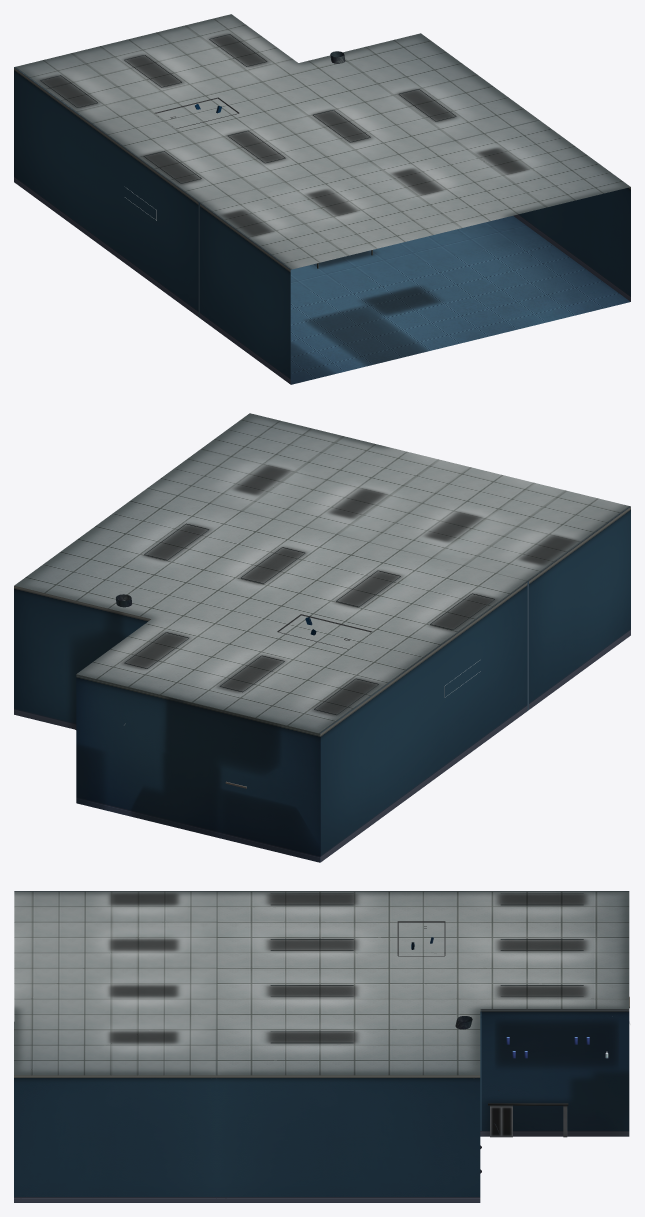
The model's file is WuZhengDiaoChaKe_01_new.FBX.
3 renders of one model, top to bottom at view 1: azimuth 30°, elevation 25°; view 2: azimuth 150°, elevation 25°; view 3: azimuth 270°, elevation 25°, orthographic. The views are drawn at different scales.
Parts seen in each view (by area): view 1: WuZhengDiaoChaKe_01_qiangmian_01, WuZhengDiaoChaKe_01_wujian_04; view 2: WuZhengDiaoChaKe_01_qiangmian_01, WuZhengDiaoChaKe_01_wujian_04; view 3: WuZhengDiaoChaKe_01_qiangmian_01, WuZhengDiaoChaKe_01_wujian_04, WuZhengDiaoChaKe_01_wujian_02, WuZhengDiaoChaKe_01_wujian_03.
Part boxes in pixels (bbox=[...]): WuZhengDiaoChaKe_01_qiangmian_01: bbox=[14, 14, 630, 384]; WuZhengDiaoChaKe_01_wujian_04: bbox=[40, 34, 456, 268]; WuZhengDiaoChaKe_01_qiangmian_01: bbox=[14, 413, 630, 862]; WuZhengDiaoChaKe_01_wujian_04: bbox=[124, 523, 494, 715]; WuZhengDiaoChaKe_01_qiangmian_01: bbox=[14, 891, 629, 1202]; WuZhengDiaoChaKe_01_wujian_04: bbox=[270, 893, 608, 1058]; WuZhengDiaoChaKe_01_wujian_02: bbox=[488, 1090, 568, 1137]; WuZhengDiaoChaKe_01_wujian_03: bbox=[397, 921, 629, 1173].
Bounding box in the file's own units: 3777 × 1291 × 5341.
